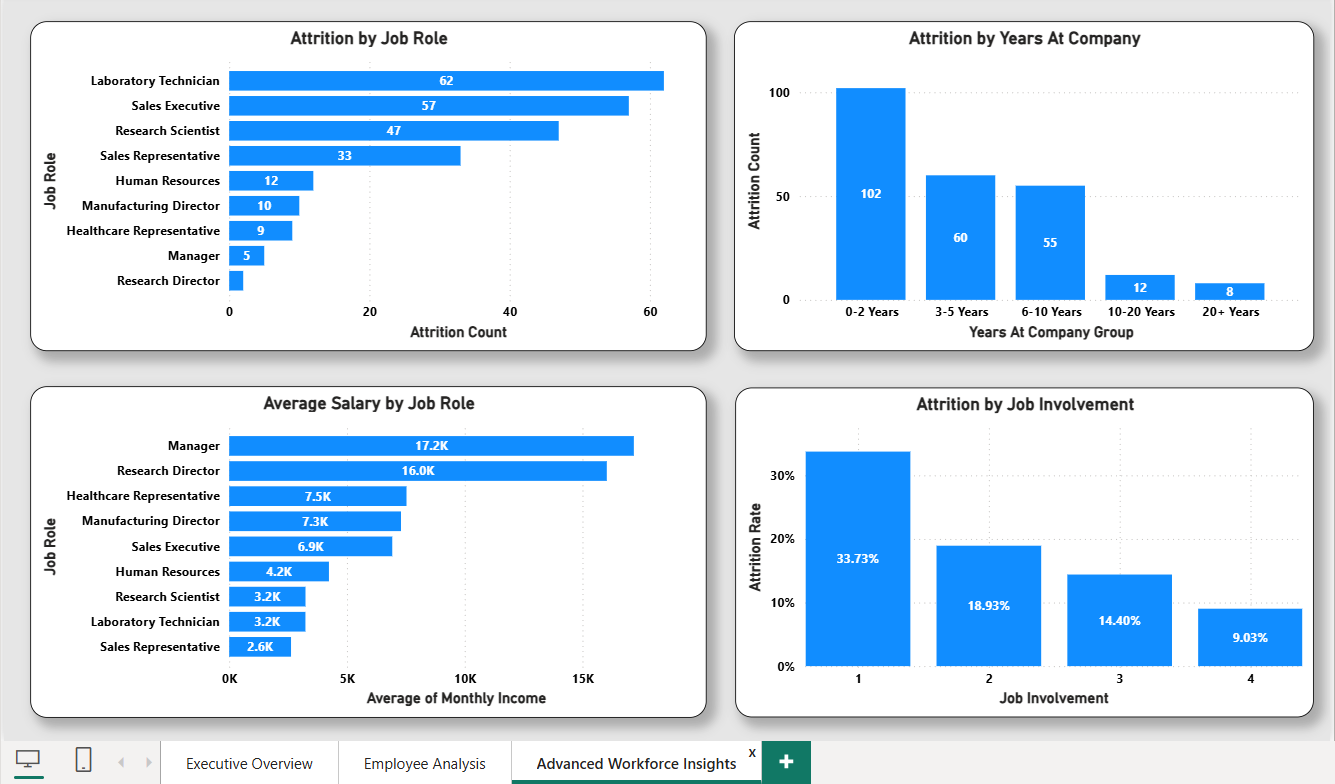

This screenshot's page, from the dashboard's own definition file:
{"tool":"powerbi","page":{"name":"Advanced Workforce Insights","canvas":[1280,720],"ordinal":2},"visuals":[{"type":"clusteredBarChart","title":"Attrition by Job Role","fields":{"Category":["IBM HR Analytics.Job Role"],"Y":["IBM HR Analytics.Attrition Count"]},"box":[25.3,25.3,652.7,318.5],"z":0},{"type":"clusteredBarChart","title":"Average Salary by Job Role","fields":{"Category":["IBM HR Analytics.Job Role"],"Y":["Avg(IBM HR Analytics.Monthly Income)"]},"box":[25.3,377.6,652.7,319.7],"z":1000},{"type":"clusteredColumnChart","title":"Attrition by Years At Company","fields":{"Y":["IBM HR Analytics.Attrition Count"],"Category":["IBM HR Analytics.Years At Company Group"]},"box":[704.6,25.3,559.8,318.5],"z":2000},{"type":"clusteredColumnChart","title":"Attrition by Job Involvement","fields":{"Y":["IBM HR Analytics.Attrition Rate"],"Category":["IBM HR Analytics.Job Involvement"]},"box":[705.8,378.8,558.6,318.5],"z":3000}]}

Visuals, with their boxes in screenshot pixels (x1, y1, x2, y2):
"Attrition by Job Role" clusteredBarChart: x1=33 y1=23 x2=704 y2=350
"Average Salary by Job Role" clusteredBarChart: x1=33 y1=385 x2=704 y2=714
"Attrition by Years At Company" clusteredColumnChart: x1=732 y1=23 x2=1307 y2=350
"Attrition by Job Involvement" clusteredColumnChart: x1=733 y1=386 x2=1307 y2=714
